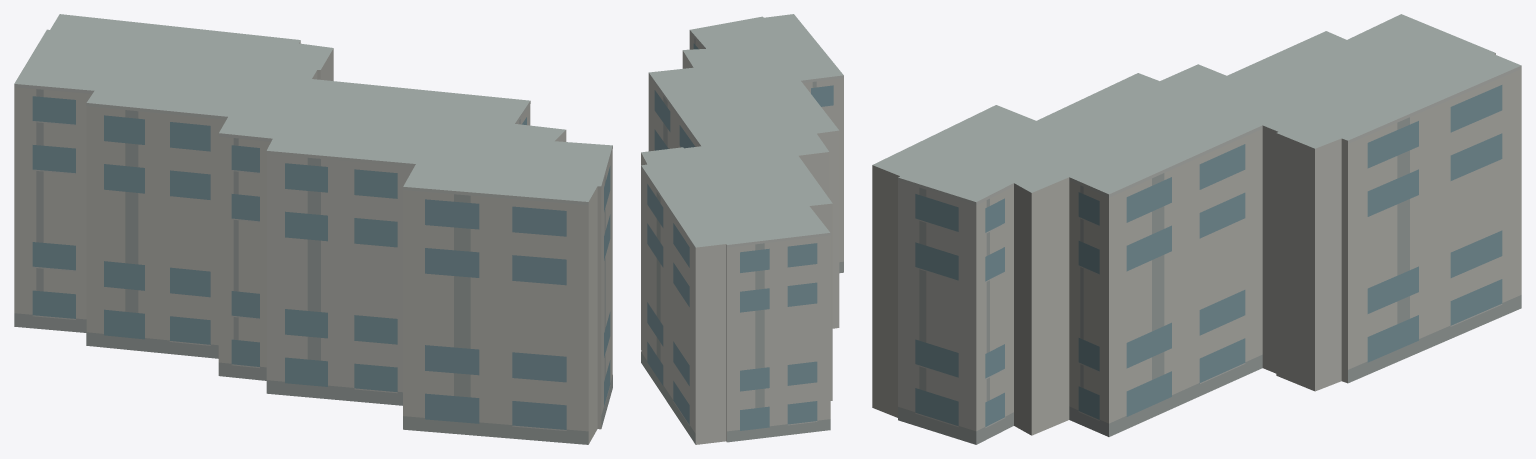
Rendered from survey-upis-32469611.glb.
3 renders of one model, left to right at view 1: azimuth 30°, elevation 25°; view 2: azimuth 150°, elevation 25°; view 3: azimuth 270°, elevation 25°, orthographic. The views are drawn at different scales.
Parts seen in each view (by area): view 1: survey-upis-32469611.tmp; view 2: survey-upis-32469611.tmp; view 3: survey-upis-32469611.tmp.
Boxes of the visible parts, x1,y1,x2,y2 form: survey-upis-32469611.tmp: [14, 14, 612, 444]; survey-upis-32469611.tmp: [641, 14, 843, 444]; survey-upis-32469611.tmp: [872, 14, 1521, 444].
Bounding box in the file's own units: 29.77 × 17.9 × 43.4.
